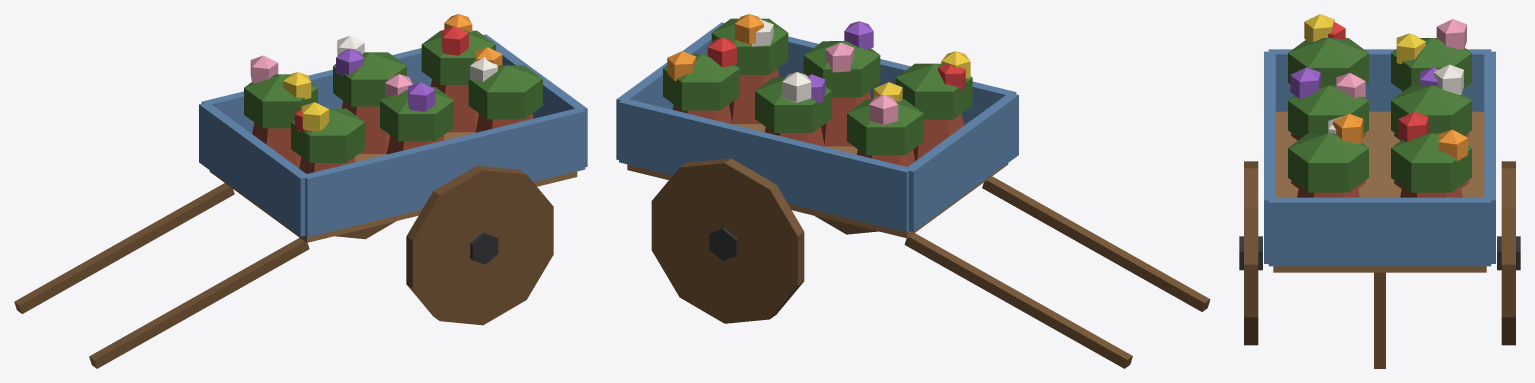
Rendered from flower_cart.glb.
The picture shows the model from 3 angles, left to right: view 1: azimuth 30°, elevation 25°; view 2: azimuth 150°, elevation 25°; view 3: azimuth 270°, elevation 25°; orthographic projection. The views are drawn at different scales.
Visible parts, largest first — view 1: flower_cart; view 2: flower_cart; view 3: flower_cart.
Part boxes in pixels (left/top/right/bottom): flower_cart: left=14, top=14, right=587, bottom=368; flower_cart: left=616, top=14, right=1210, bottom=368; flower_cart: left=1239, top=14, right=1520, bottom=368.
Bounding box in the file's own units: 2.61 × 1.19 × 1.2.
